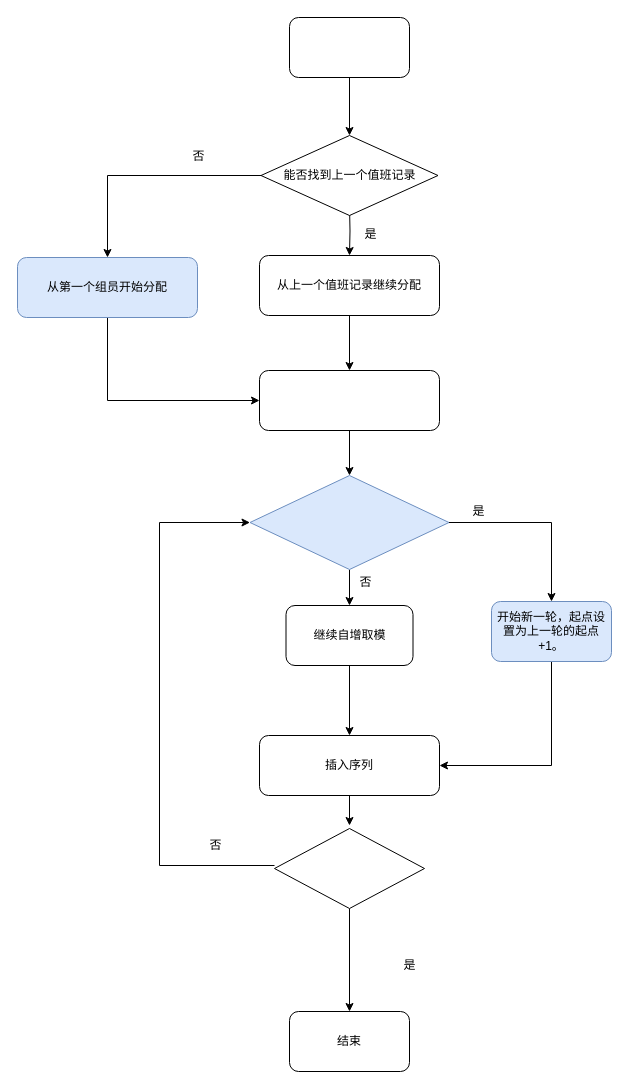
This 629x1089 diagram has some shape labels left out. Here are the shapes that lost their labels. From the top down, the centre of each, then its label:
At point 349,47: "开始".
At point 349,400: "开始分配".
At point 349,522: "是否设置了序列动态循环&& 这一轮结束".
At point 349,868: "该月的序列是否分配完成".
